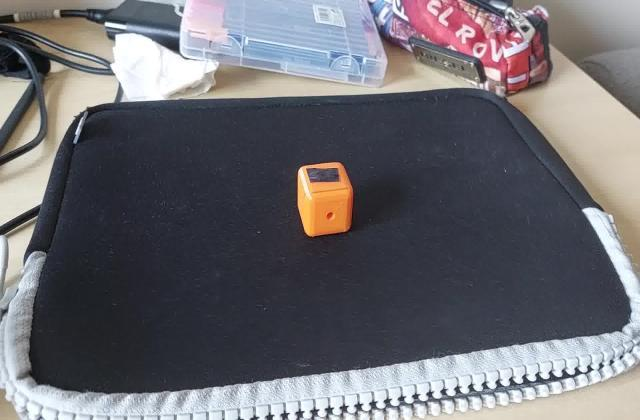black: (303, 164, 343, 186)
cube: (294, 161, 354, 239)
